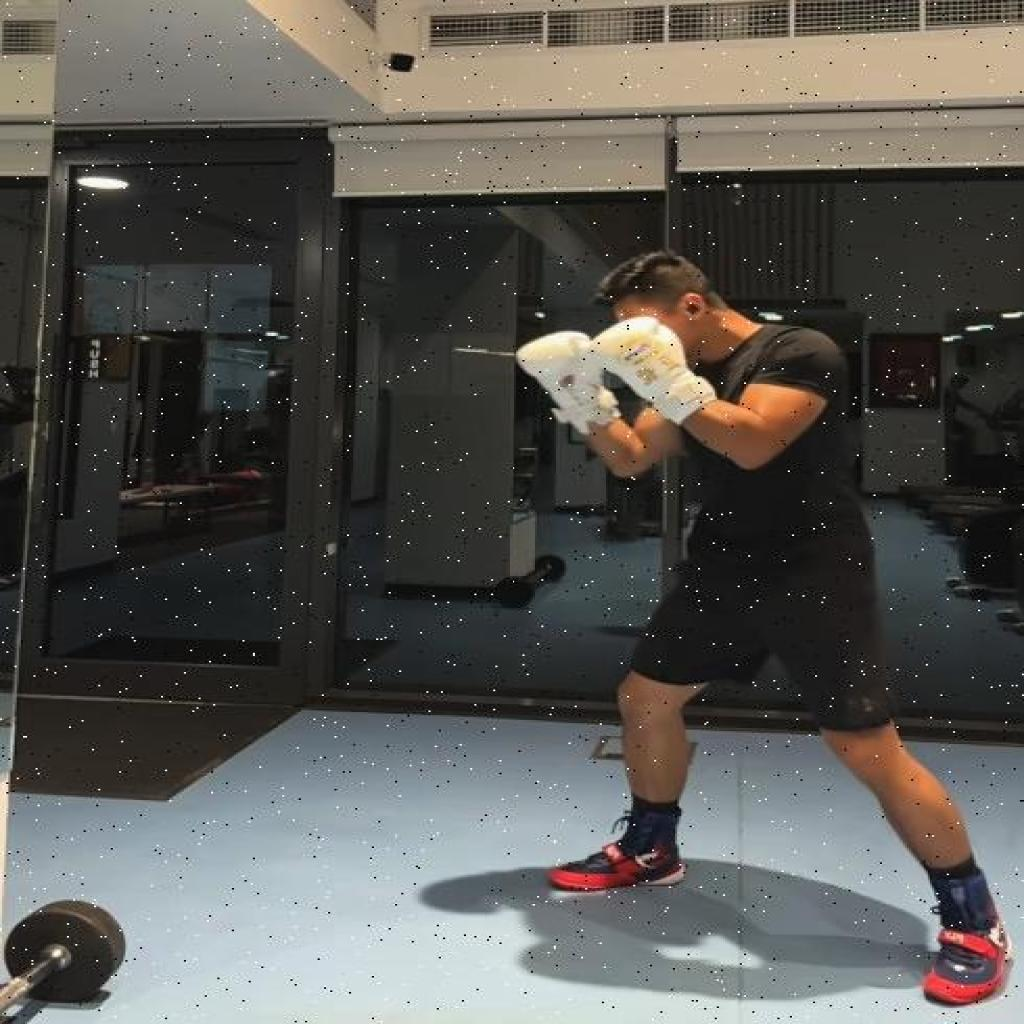no punch: (510, 250, 1013, 1011)
